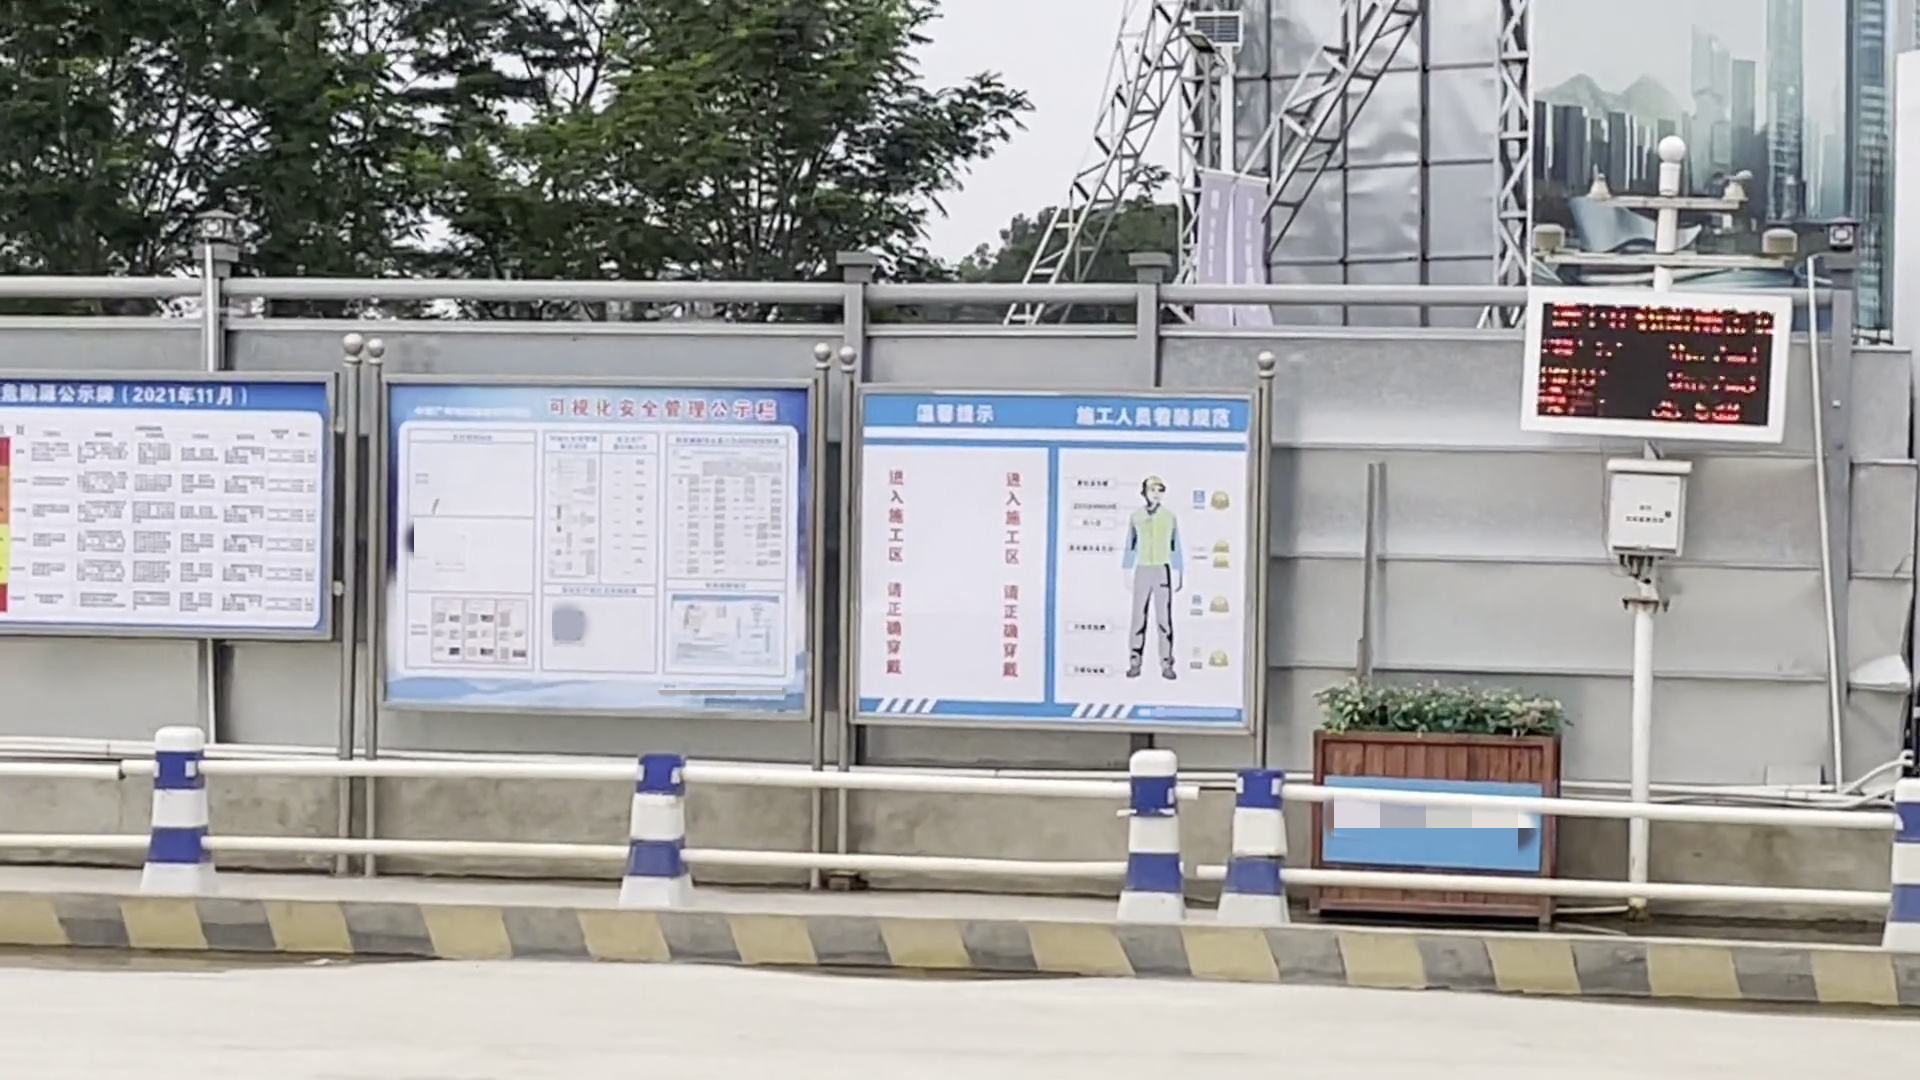slogan: (378, 378, 806, 717), (860, 389, 1244, 723), (1, 386, 324, 633)
